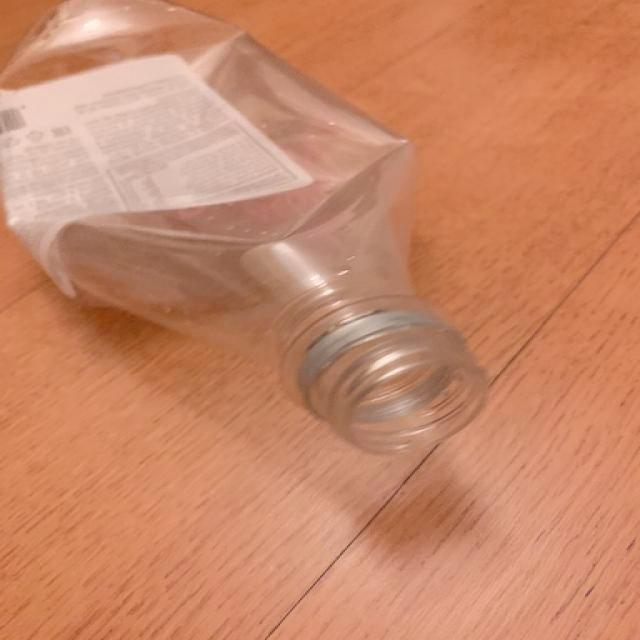bottle: (0, 0, 495, 456)
